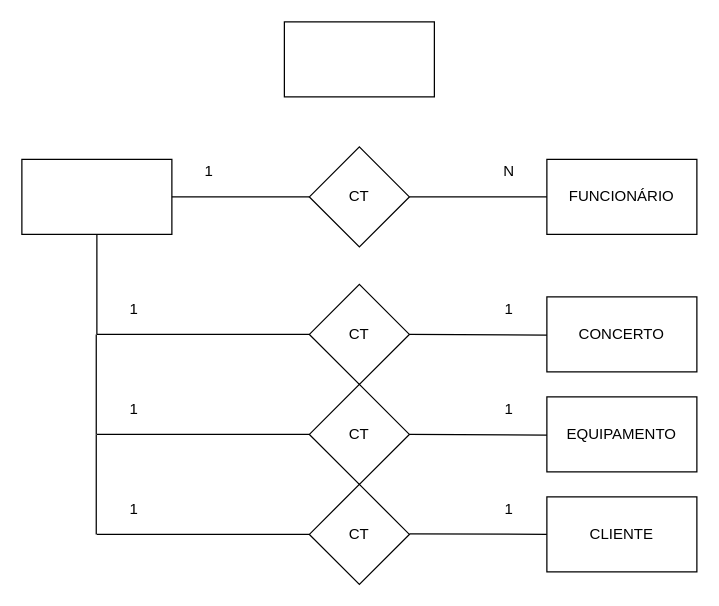
Some shapes in this 719 by 606 pixel diagram are drawn without their labels. Each missing label, with the centre of its shape:
CONECEITUAL: point (358, 59)
PEDIDO: point (96, 196)
